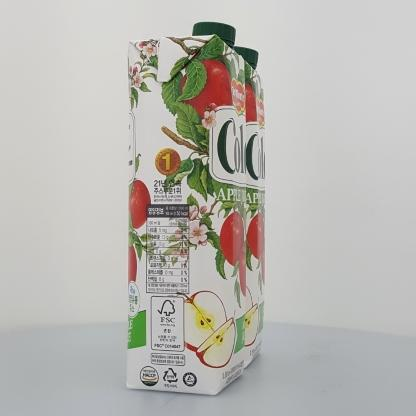------------: (126, 22, 246, 396)
